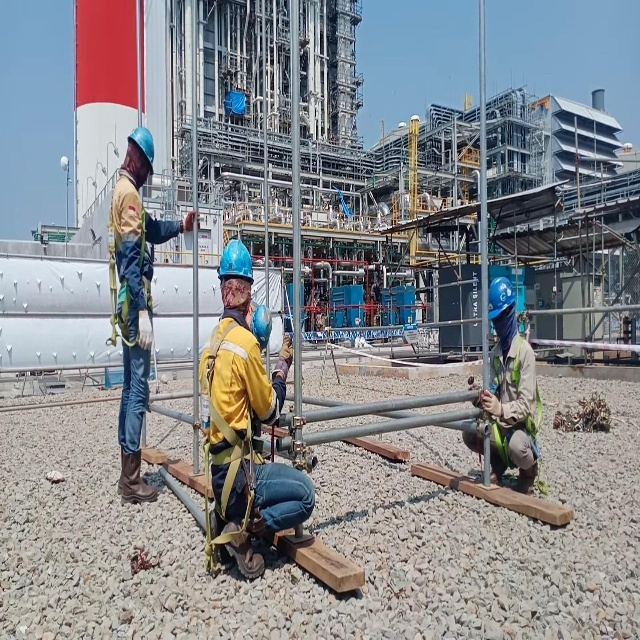Arnes_seguridad: (200, 315, 261, 573), (106, 173, 152, 350), (487, 329, 541, 474)
